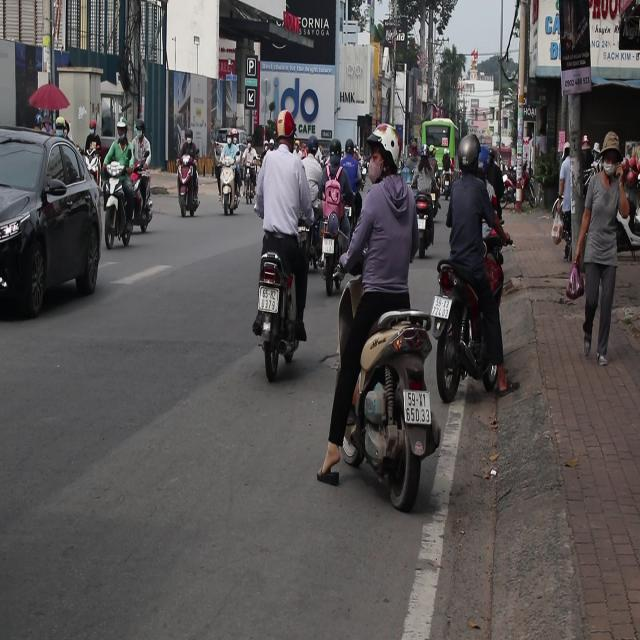bus: (421, 122, 459, 172)
car: (1, 125, 105, 319)
motorbike: (332, 298, 446, 510), (425, 267, 523, 391), (251, 261, 301, 367), (102, 159, 140, 248), (120, 139, 152, 229), (172, 154, 204, 227), (414, 187, 441, 260), (209, 152, 237, 212), (320, 227, 341, 292), (83, 136, 109, 188), (243, 159, 262, 206), (342, 185, 358, 233)
